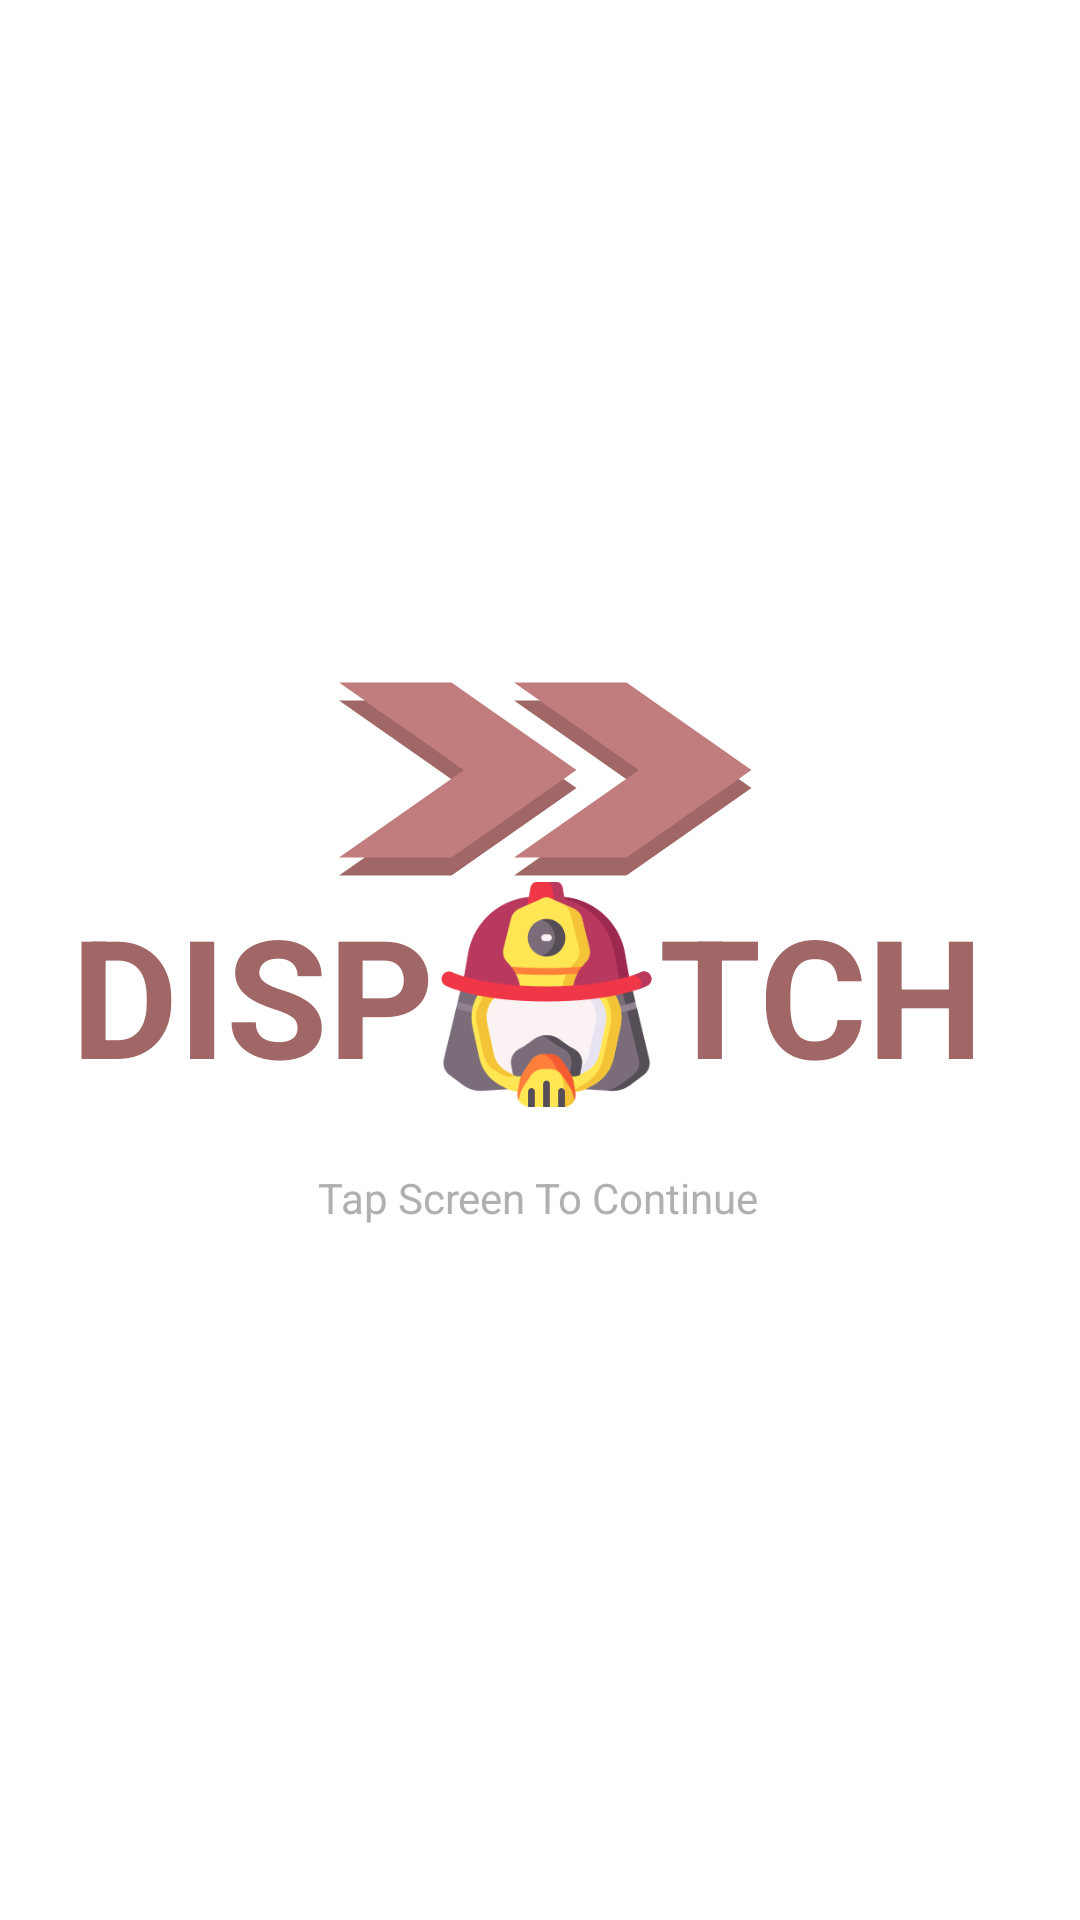

Screen size 1080 × 1920. Icon name, then its box in pixels as (x1, y1, x2, y2):
fighter: (441, 882, 652, 1107)
